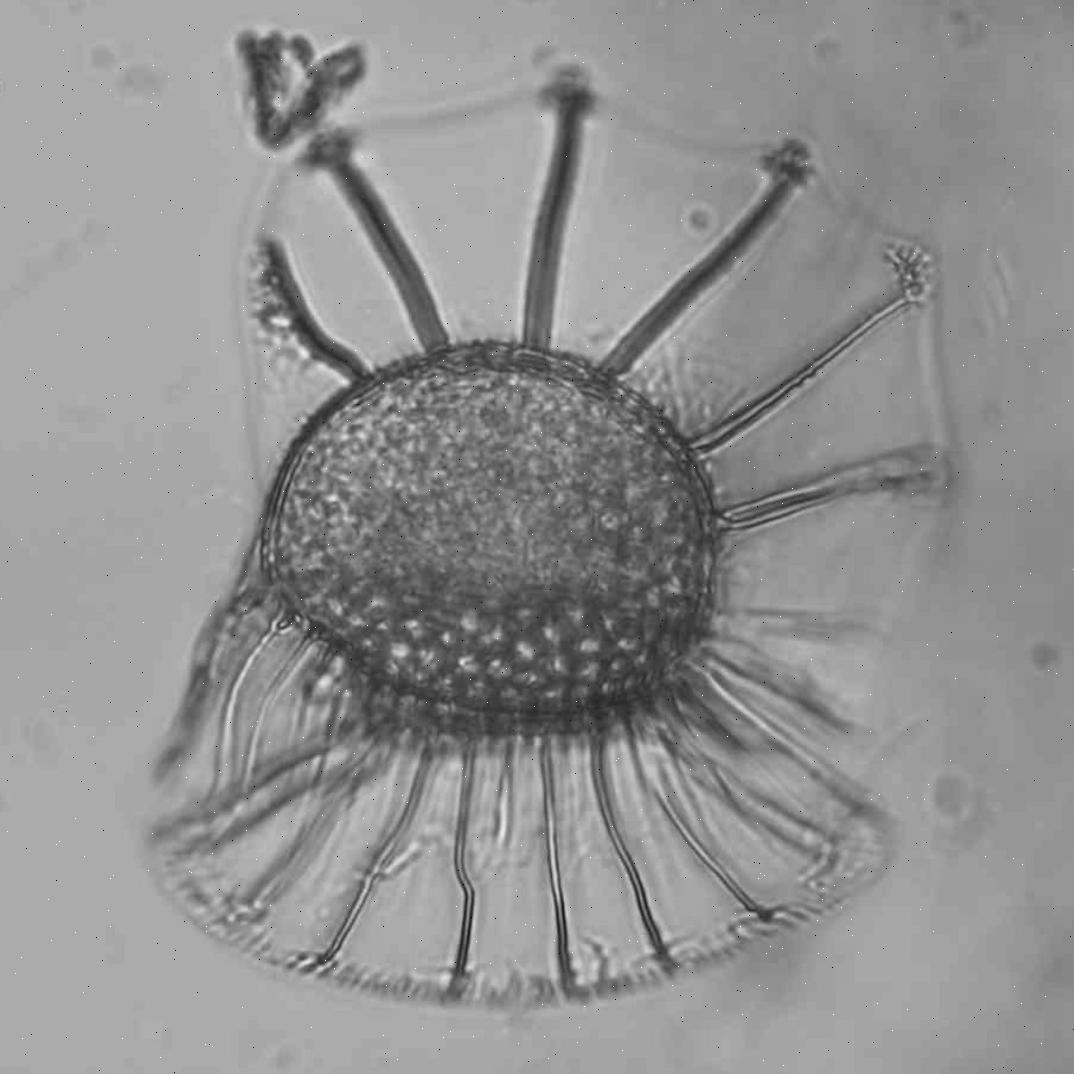ornithocercus_thumii: (123, 71, 945, 1013)
